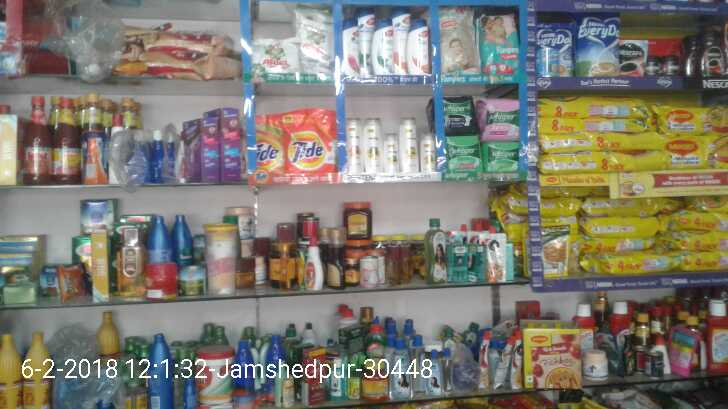beauty: (405, 21, 434, 78), (371, 18, 397, 76), (340, 14, 361, 79), (361, 117, 384, 176), (398, 115, 421, 173), (340, 115, 361, 174), (358, 10, 375, 77), (382, 130, 399, 174), (417, 133, 436, 171)
home: (283, 108, 338, 175), (293, 6, 337, 79), (246, 112, 284, 171), (245, 36, 298, 78)
pharmacy: (429, 11, 478, 73), (476, 12, 520, 75), (474, 97, 519, 142), (429, 94, 474, 134), (481, 139, 524, 173), (442, 137, 484, 171)
